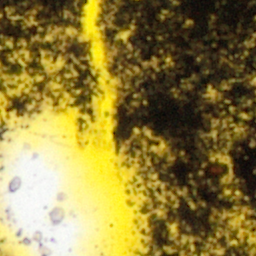cement_matrix: (102, 0, 255, 255), (0, 0, 93, 109), (9, 95, 32, 112), (13, 47, 29, 63), (154, 142, 165, 153), (119, 31, 128, 41), (169, 225, 177, 235), (0, 74, 4, 91), (218, 154, 226, 161), (185, 239, 189, 244), (69, 70, 71, 72)
cracks: (0, 0, 167, 255), (227, 211, 255, 249), (0, 231, 21, 255), (8, 94, 33, 113), (155, 143, 164, 152), (170, 226, 176, 234), (219, 155, 225, 160), (186, 240, 188, 243)
gravel_crushed_stones: (0, 129, 98, 255), (14, 48, 28, 62), (120, 32, 127, 40)
